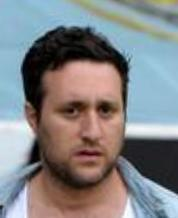face: (59, 99, 116, 161)
